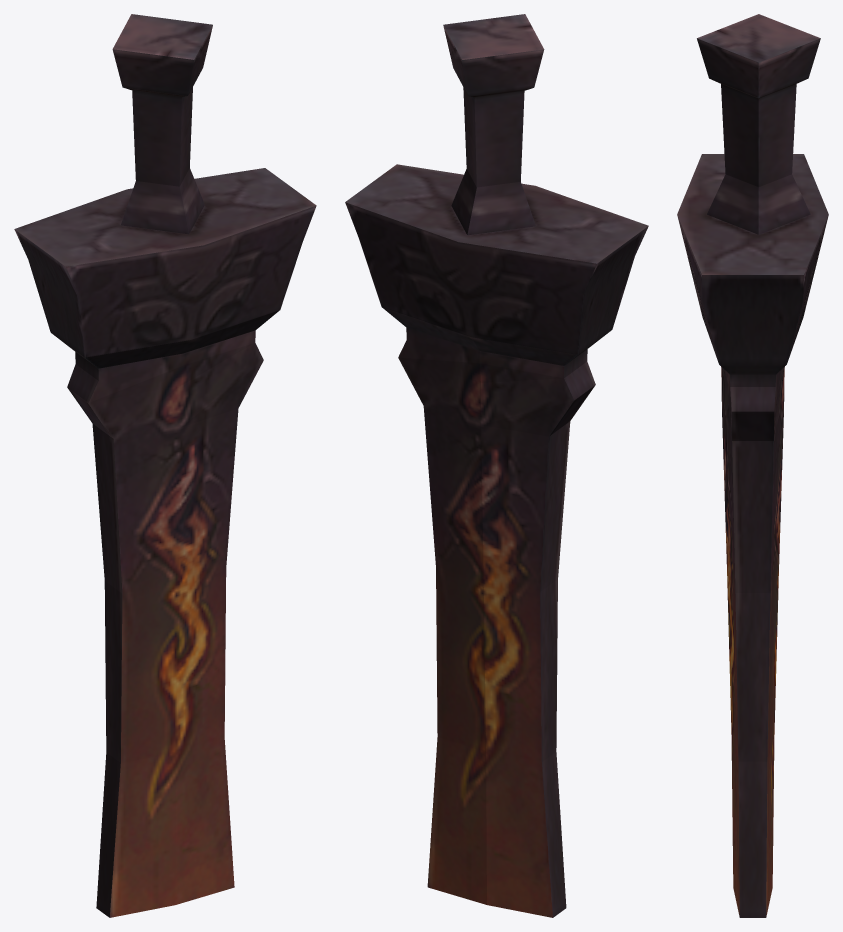
File: sysd_prop03.FBX
3 views of the same model, side by side, from view 1: azimuth 30°, elevation 25°; view 2: azimuth 150°, elevation 25°; view 3: azimuth 270°, elevation 25° (orthographic).
Visible parts, largest first — view 1: sysd_prop03; view 2: sysd_prop03; view 3: sysd_prop03.
Boxes of the visible parts, x1=… form: sysd_prop03: x1=14, y1=14, x2=316, y2=917; sysd_prop03: x1=345, y1=14, x2=648, y2=917; sysd_prop03: x1=677, y1=14, x2=828, y2=917.
Size of the model in its own units: 1471 by 4812 by 779.
